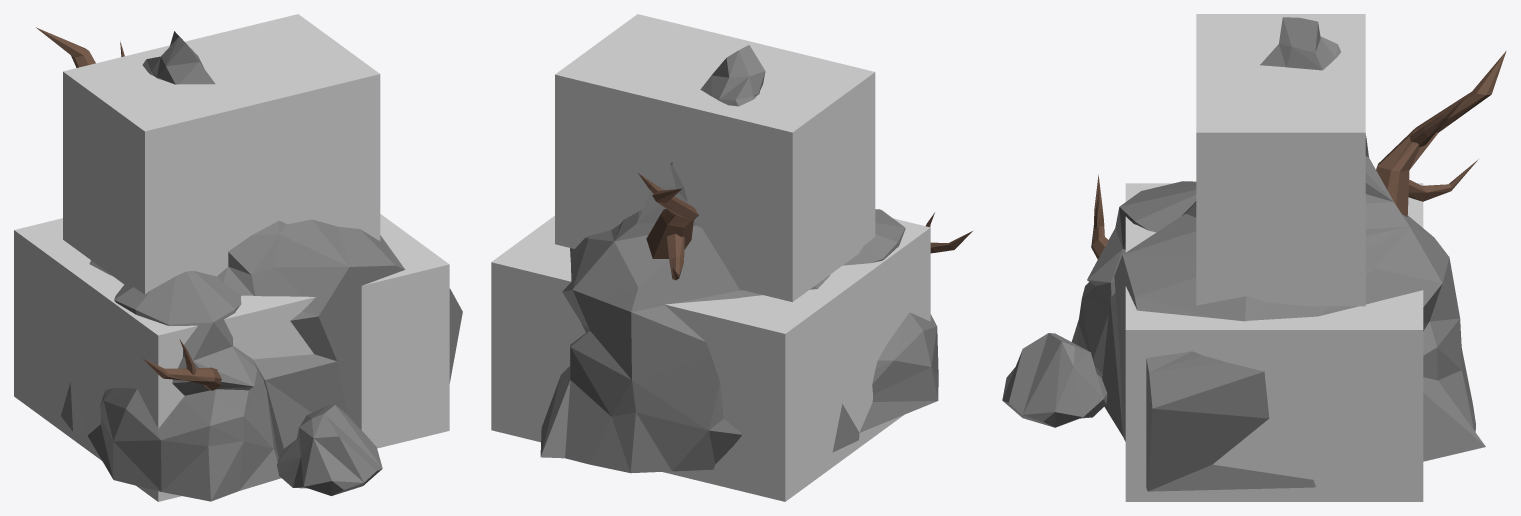
Rendered from elf_sculpture_rock.glb.
The picture shows the model from 3 angles, left to right: view 1: azimuth 30°, elevation 25°; view 2: azimuth 150°, elevation 25°; view 3: azimuth 270°, elevation 25°; orthographic projection. The views are drawn at different scales.
Parts seen in each view (by area): view 1: Cube.003, sculptire_9, Cube.001; view 2: Cube.003, Cube.001, sculptire_9; view 3: sculptire_9, Cube.003, Cube.001.
Part boxes in pixels (bbox=[...]): Cube.003: bbox=[63, 14, 380, 294]; sculptire_9: bbox=[36, 27, 462, 501]; Cube.001: bbox=[14, 214, 449, 501]; Cube.003: bbox=[555, 14, 875, 301]; Cube.001: bbox=[491, 216, 930, 501]; sculptire_9: bbox=[540, 45, 972, 473]; sculptire_9: bbox=[1002, 17, 1506, 491]; Cube.003: bbox=[1196, 14, 1365, 306]; Cube.001: bbox=[1125, 183, 1423, 501].
Bounding box in the file's own units: 2.78 × 2.89 × 3.38.
1 material, 1 textured.
